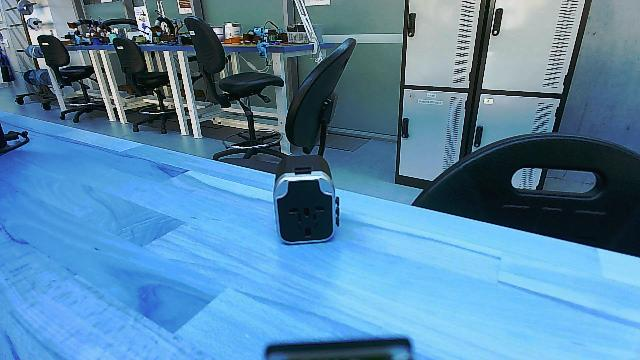adapter: (266, 152, 348, 252)
